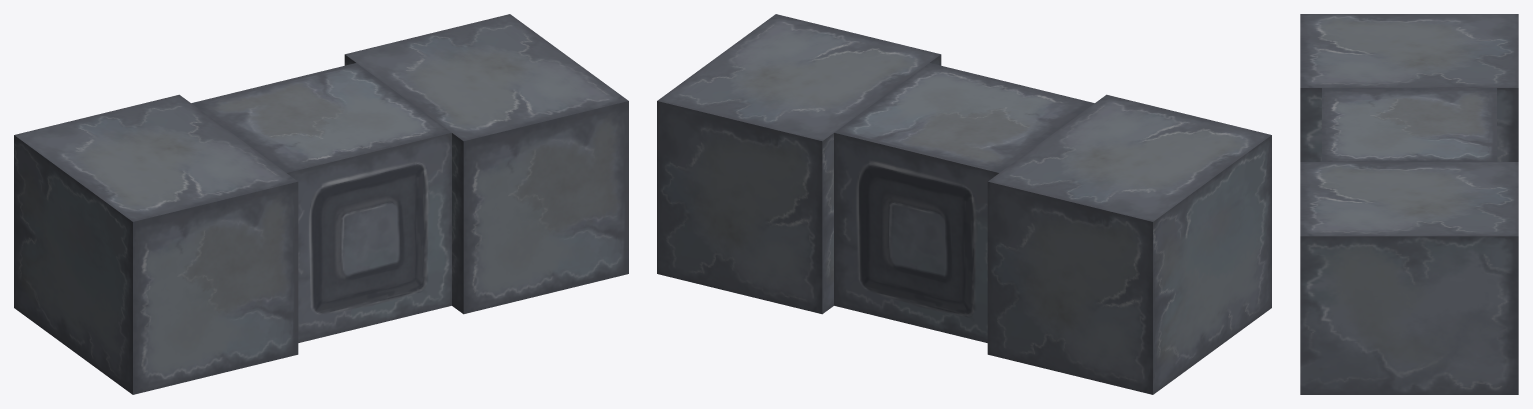
Rendered from Castle Deco Pilar Wide 1.fbx.
The picture shows the model from 3 angles, left to right: view 1: azimuth 30°, elevation 25°; view 2: azimuth 150°, elevation 25°; view 3: azimuth 270°, elevation 25°; orthographic projection. The views are drawn at different scales.
Visible parts, largest first — view 1: Castle Deco Pilar Wide 1; view 2: Castle Deco Pilar Wide 1; view 3: Castle Deco Pilar Wide 1.
Part boxes in pixels (x1,y1,x2,y2): Castle Deco Pilar Wide 1: (14,14,628,394); Castle Deco Pilar Wide 1: (657,14,1271,394); Castle Deco Pilar Wide 1: (1300,14,1518,394).
Bounding box in the file's own units: 2.25 × 0.75 × 0.9335.
